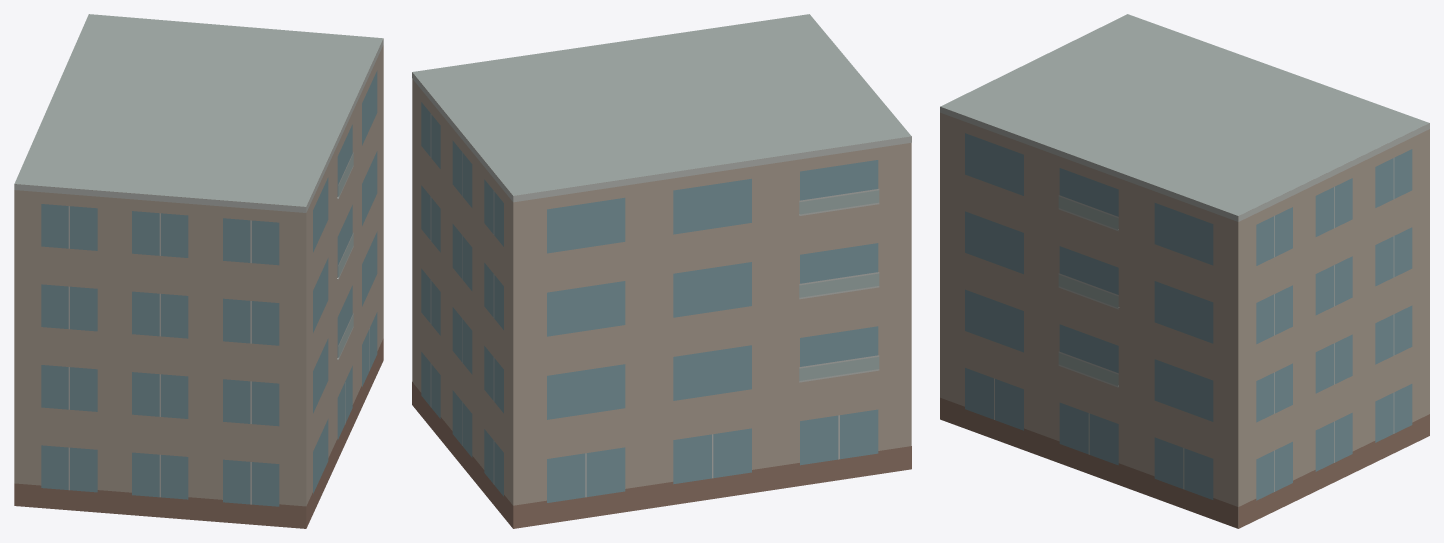
File: survey-upis-32716197.glb
3 views of the same model, side by side, from view 1: azimuth 30°, elevation 25°; view 2: azimuth 150°, elevation 25°; view 3: azimuth 270°, elevation 25° (orthographic). The views are drawn at different scales.
Parts seen in each view (by area): view 1: survey-upis-32716197.tmp; view 2: survey-upis-32716197.tmp; view 3: survey-upis-32716197.tmp.
Part boxes in pixels (<box>): survey-upis-32716197.tmp: <box>14,14,383,528</box>; survey-upis-32716197.tmp: <box>412,14,911,528</box>; survey-upis-32716197.tmp: <box>940,14,1429,528</box>.
Size of the model in its own units: 17.74 by 12.8 by 18.17.
